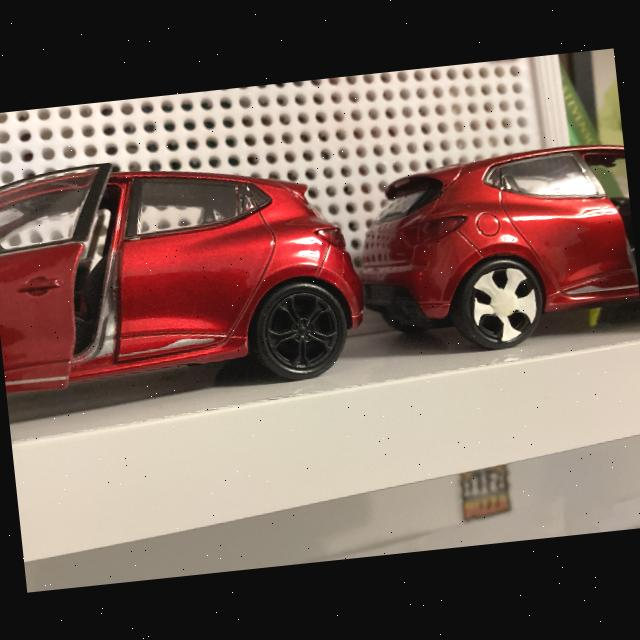Dogru_Jant: (264, 292, 338, 370)
Yanlis_Jant: (468, 264, 542, 346)
